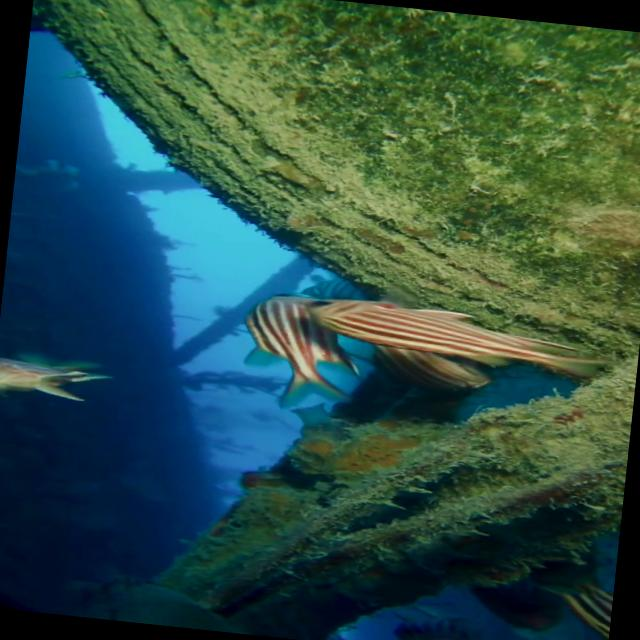Asker Baligi: (230, 284, 616, 444)
